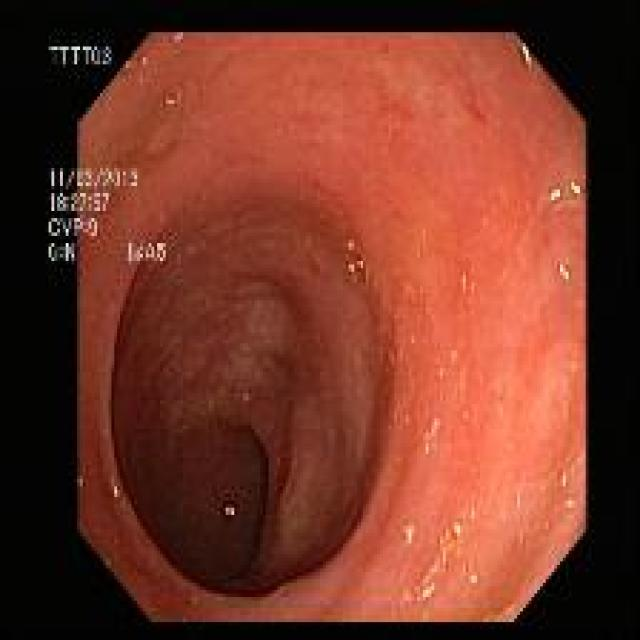ulcerative-colitis: (60, 31, 585, 621)
